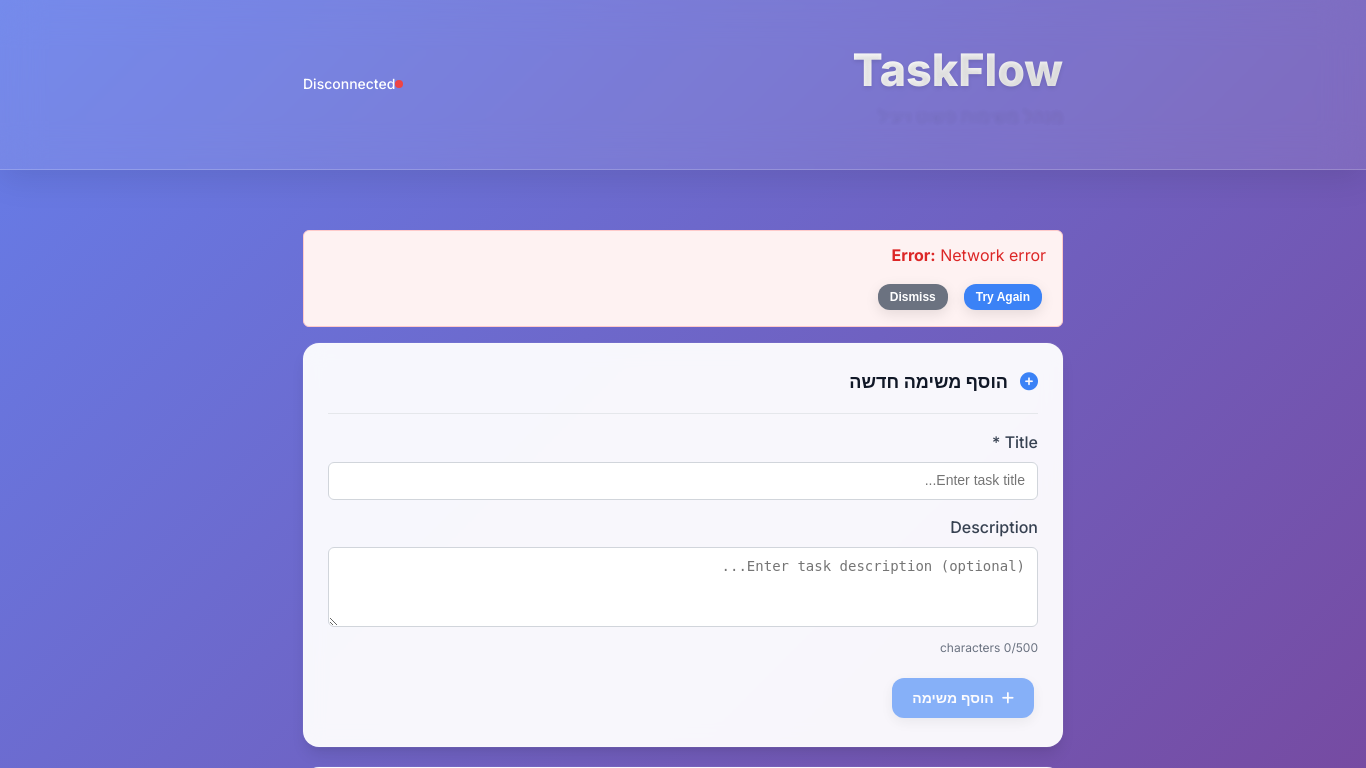
Test case: App Component › dismisses error when dismiss button is clicked
expect the text "Error:" is shown: met, box [892,245,936,265]
Click the button "Dismiss" at (913, 298), box [878,284,948,310]
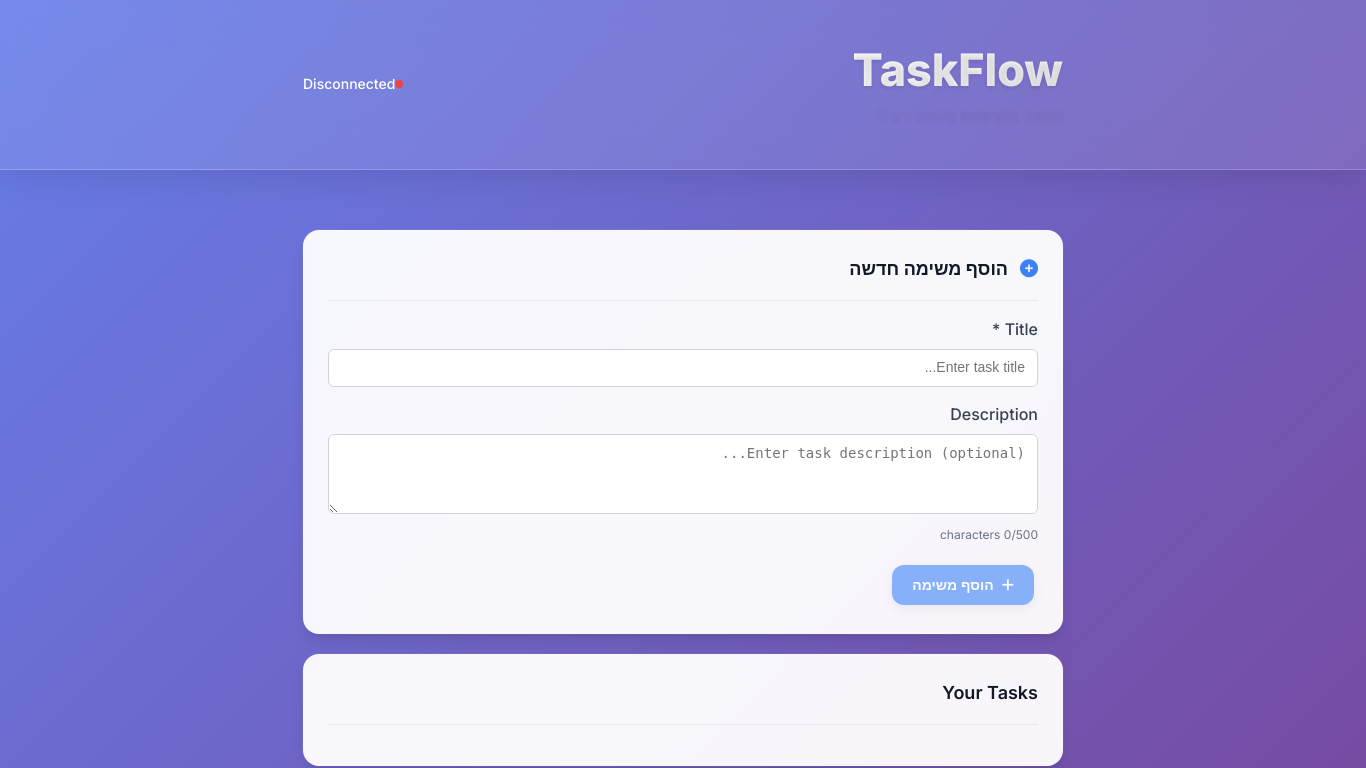
expect the text "Error:" is gone: met
